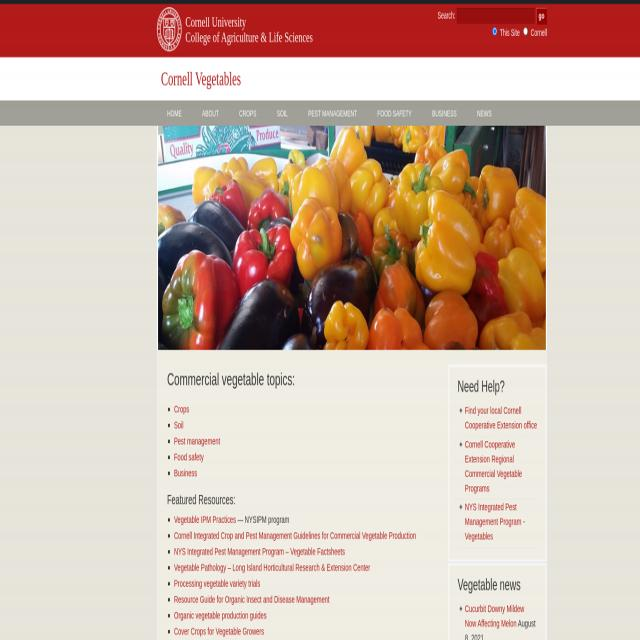button: (157, 125, 546, 351), (150, 8, 318, 51), (298, 98, 367, 124), (368, 98, 422, 124), (422, 98, 467, 124), (229, 98, 267, 124), (192, 98, 228, 124), (466, 98, 502, 124), (157, 98, 192, 124), (266, 98, 298, 124), (536, 5, 547, 22)
field: (457, 6, 535, 23), (492, 26, 497, 36), (523, 27, 528, 36)
